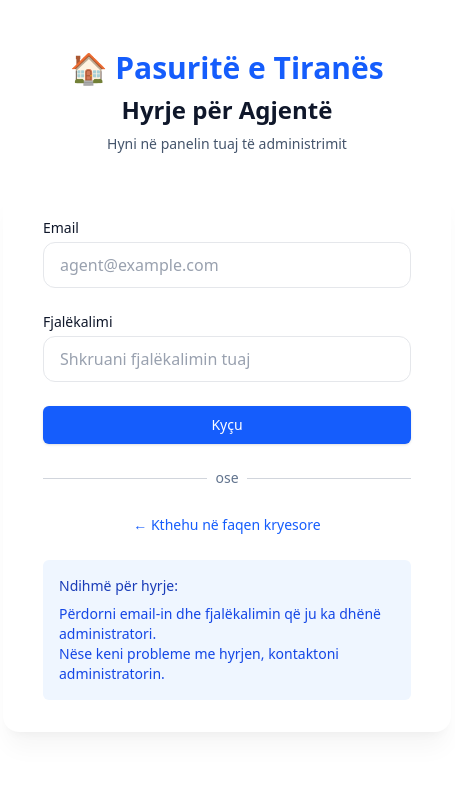
Admin Login Component › displays error message on invalid credentials
In the field labelled "Email": (227, 265) x1=43 y1=242 x2=411 y2=288, type "admin@test.com"
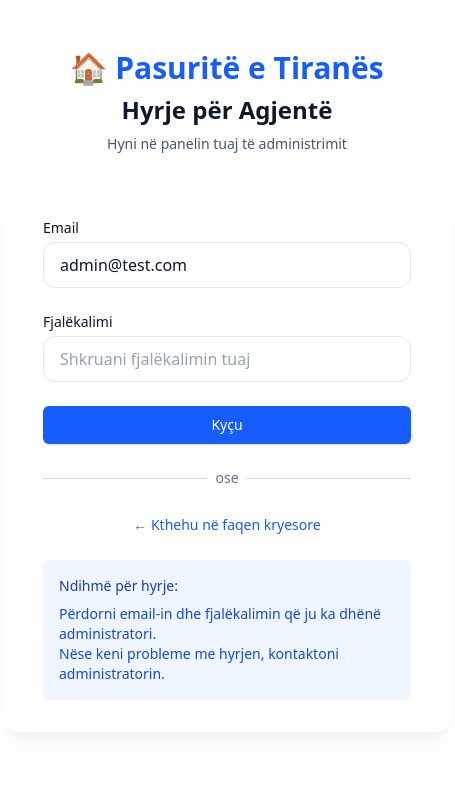
In the password field labelled "Fjalëkalimi": (227, 359) x1=43 y1=336 x2=411 y2=382, type "wrongpass"
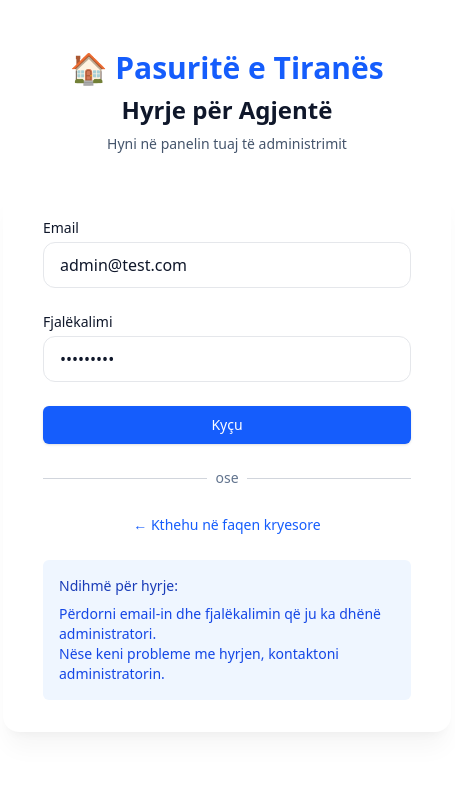
Click the button "Kyçu": (227, 425) x1=43 y1=406 x2=411 y2=444
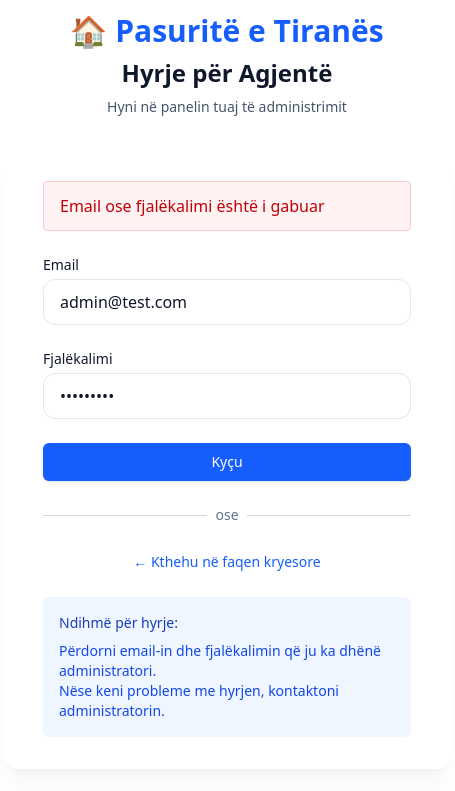
Expected: the text "Email ose fjalëkalimi është i gabuar" is shown, x1=43 y1=181 x2=411 y2=231
